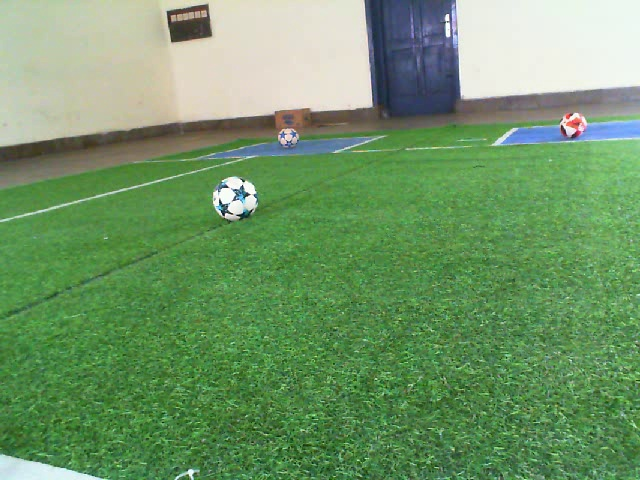ball: (211, 175, 259, 223), (557, 109, 589, 141), (276, 127, 300, 150)
